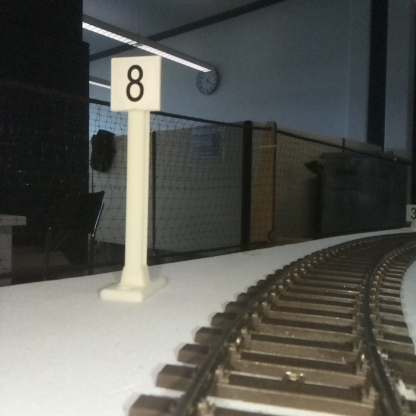white-info-8: (110, 56, 160, 301)
